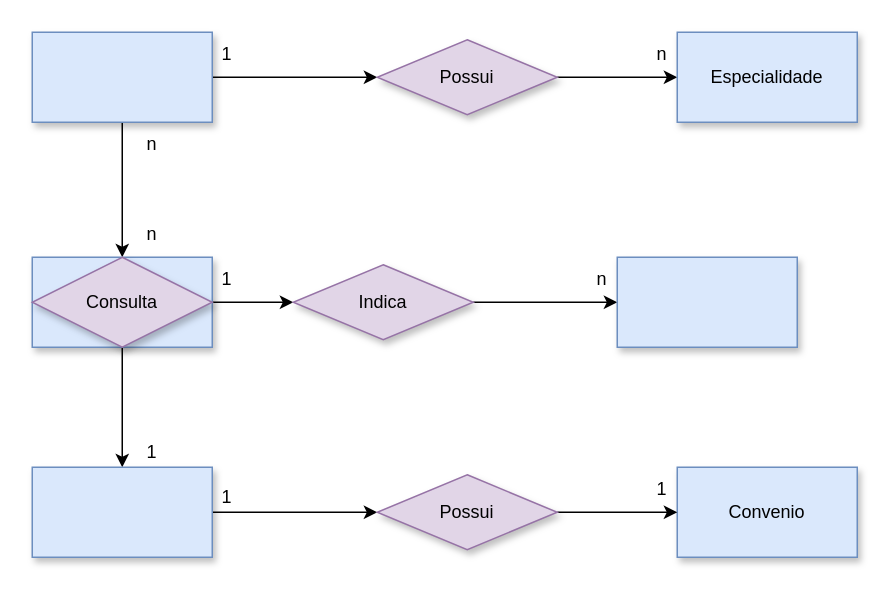
Image size: 893x594. Some labels were removed from this diagram. The shapes that lost their labels are listed below. From the top down, each one's centre as x and y in pixels, then its label:
At (123,79): "Médico".
At (708,304): "Receita".
At (123,514): "Paciente".
